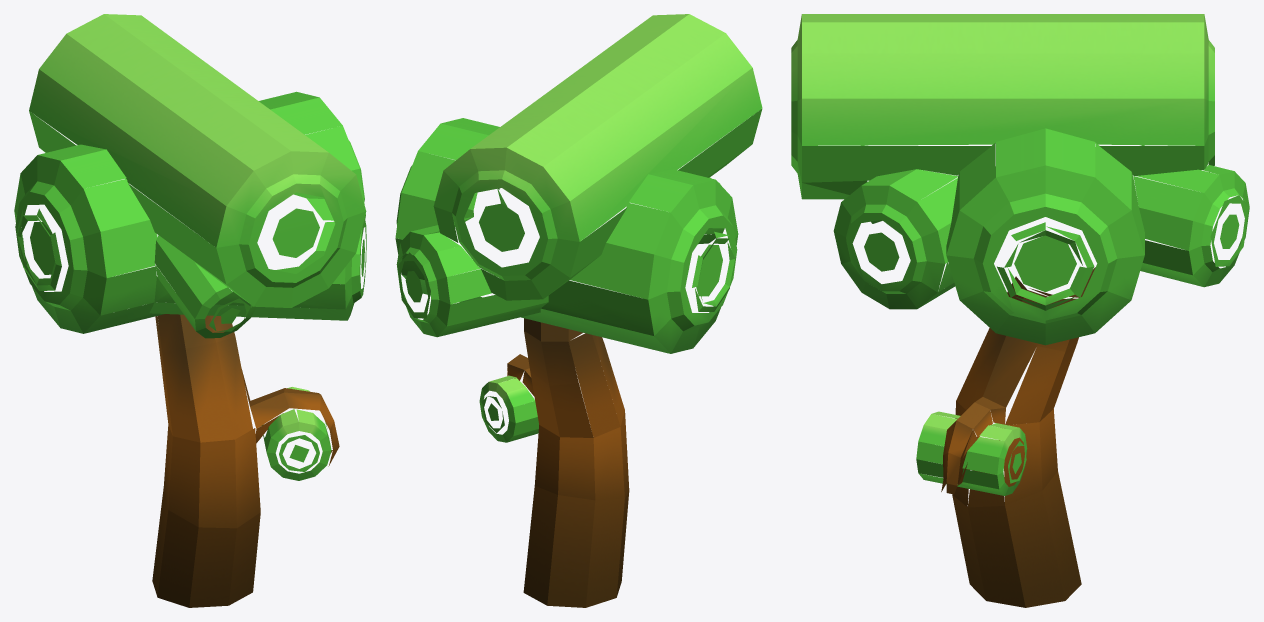
The model's file is BigTree.glb.
The picture shows the model from 3 angles, left to right: view 1: azimuth 30°, elevation 25°; view 2: azimuth 150°, elevation 25°; view 3: azimuth 270°, elevation 25°; orthographic projection. The views are drawn at different scales.
Visible parts, largest first — view 1: Cylinder.000; view 2: Cylinder.000; view 3: Cylinder.000.
Part boxes in pixels (x1,y1,x2,y2): Cylinder.000: [14, 14, 366, 607]; Cylinder.000: [395, 14, 762, 607]; Cylinder.000: [791, 14, 1249, 607].
Size of the model in its own units: 4.01 by 6.43 by 4.83.
Materials: 1 (1 with a texture image).
